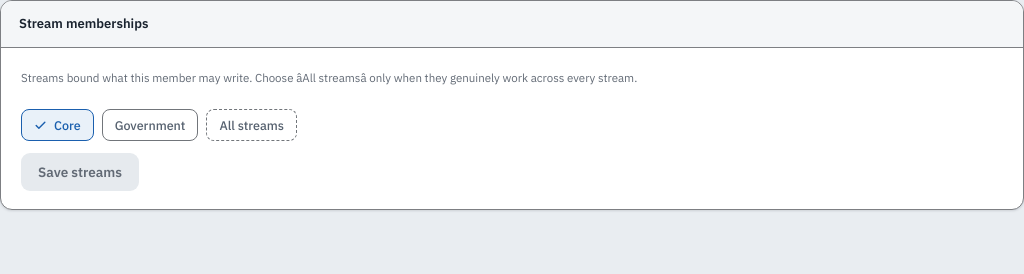
Test: StreamAssignmentPanel (ADR-0042 step 3) › surfaces a refusal instead of hiding the control
This screenshot has width=1024, height=274.
Click the button "Government" at (150, 125), box top-left (102, 109), bottom-right (198, 141)
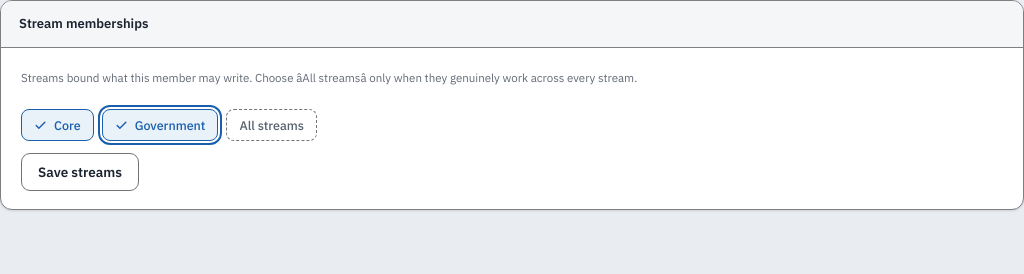
Click the button "Save streams" at (80, 172), box top-left (21, 153), bottom-right (139, 191)
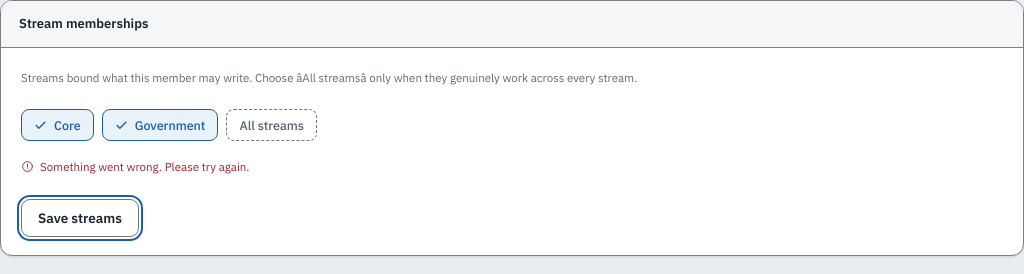
Now the text "Something went wrong. Please try again." is shown, box top-left (21, 158), bottom-right (250, 176)
